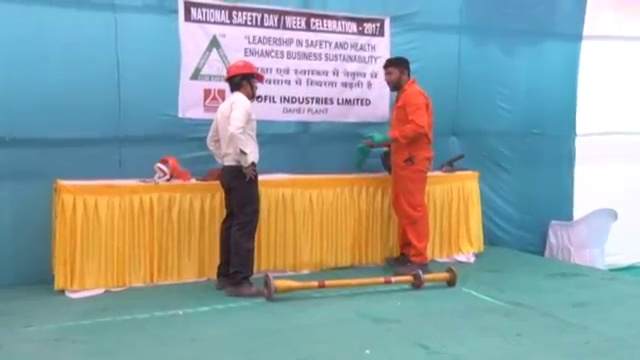helmet: (223, 59, 266, 84)
helmet_off: (382, 54, 411, 93)
helmet_on: (224, 58, 264, 103)
person: (207, 57, 266, 295), (375, 54, 433, 274)
